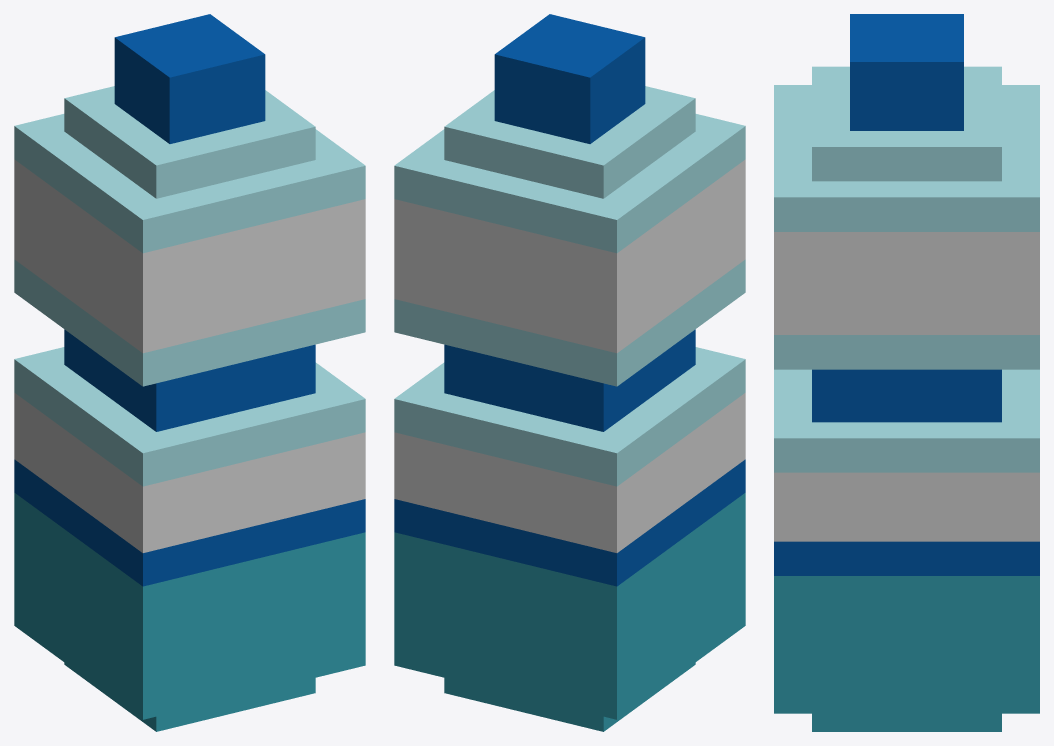
Rendered from plastic bottle.gltf.
The picture shows the model from 3 angles, left to right: view 1: azimuth 30°, elevation 25°; view 2: azimuth 150°, elevation 25°; view 3: azimuth 270°, elevation 25°; orthographic projection. The views are drawn at different scales.
Visible parts, largest first — view 1: Object_0; view 2: Object_0; view 3: Object_0.
Boxes of the visible parts, x1=… form: Object_0: x1=14, y1=14, x2=365, y2=731; Object_0: x1=394, y1=14, x2=745, y2=731; Object_0: x1=774, y1=14, x2=1039, y2=731.
Size of the model in its own units: 0.7 by 1.9 by 0.7.
1 material, 1 textured.
